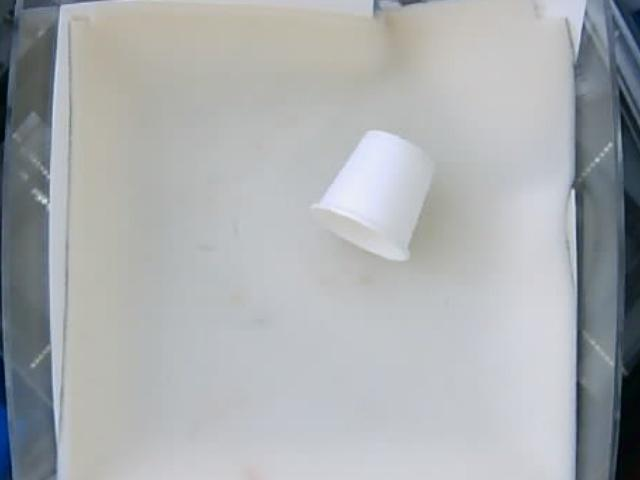Cup: (312, 131, 435, 260)
